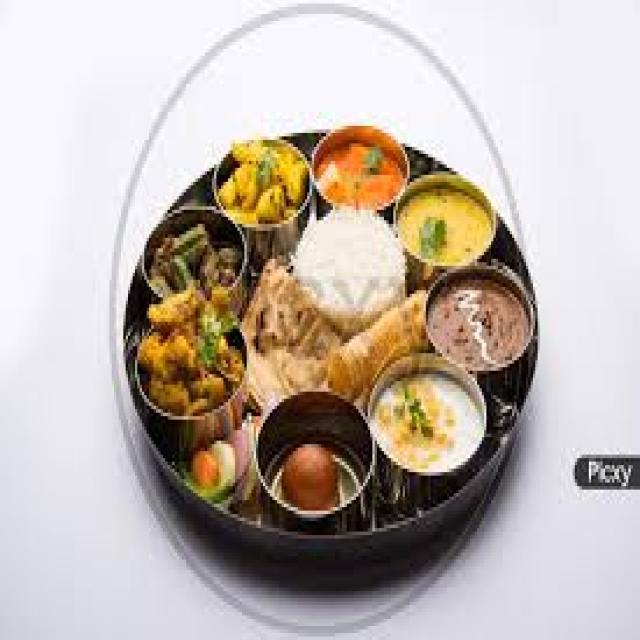dal: (396, 174, 503, 266)
rice: (363, 368, 493, 490), (299, 205, 407, 320)
roti: (237, 267, 351, 406)
sambar-rasam: (310, 121, 411, 218)
sweet: (257, 403, 377, 521), (174, 421, 246, 507)
veg-fry: (124, 223, 251, 447)
